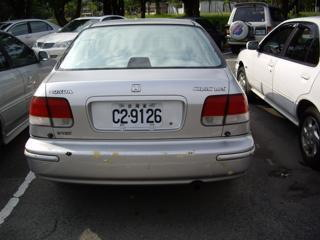plate: (110, 103, 164, 129)
